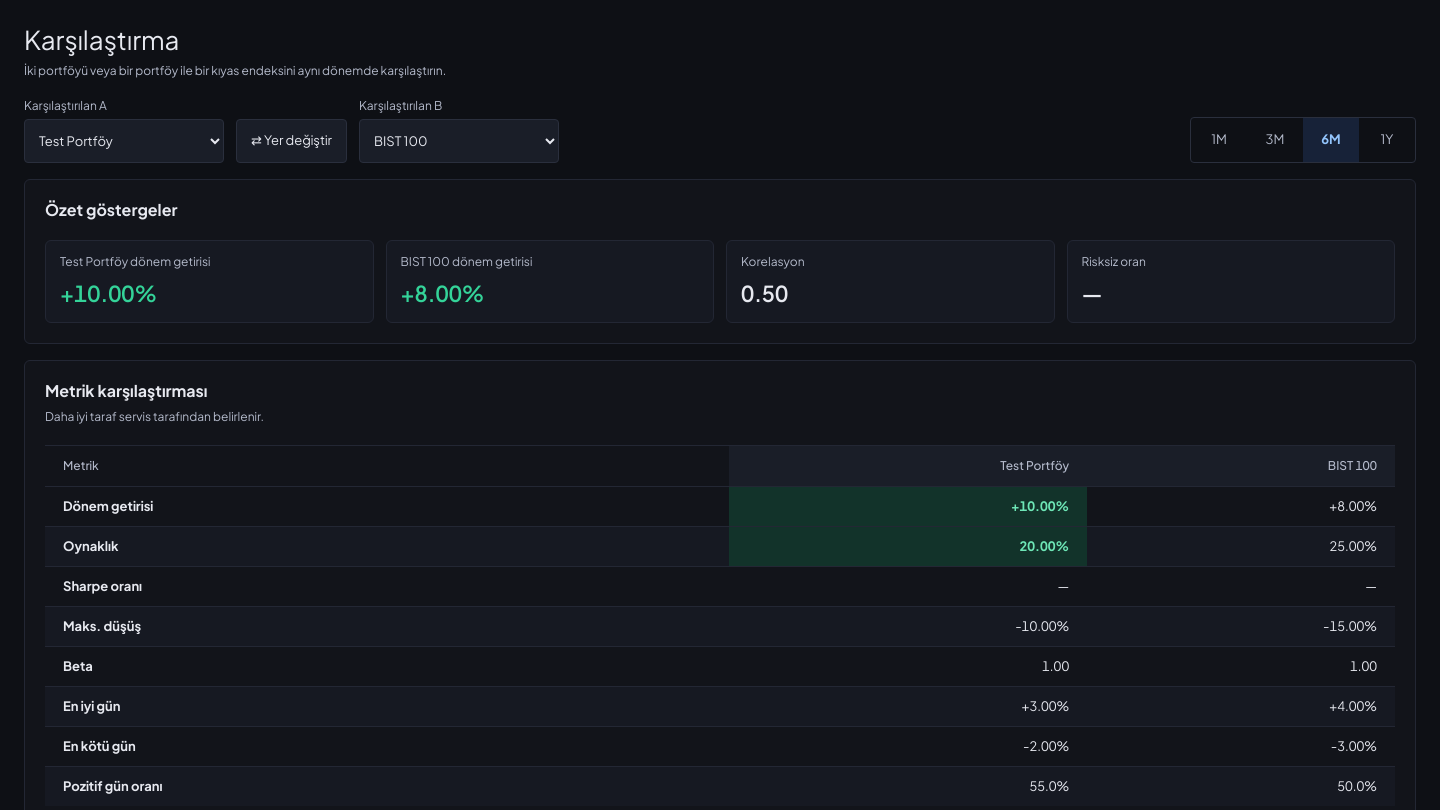
Test: CompareView › swaps the A and B selections
Expected: the dropdown labelled "Karşılaştırılan A" shows "Test Portföy", 24,119 -> 224,163
Click the button with aria-label "A ve B seçimlerini yer değiştir" at [292, 141], box 236,119 -> 347,163
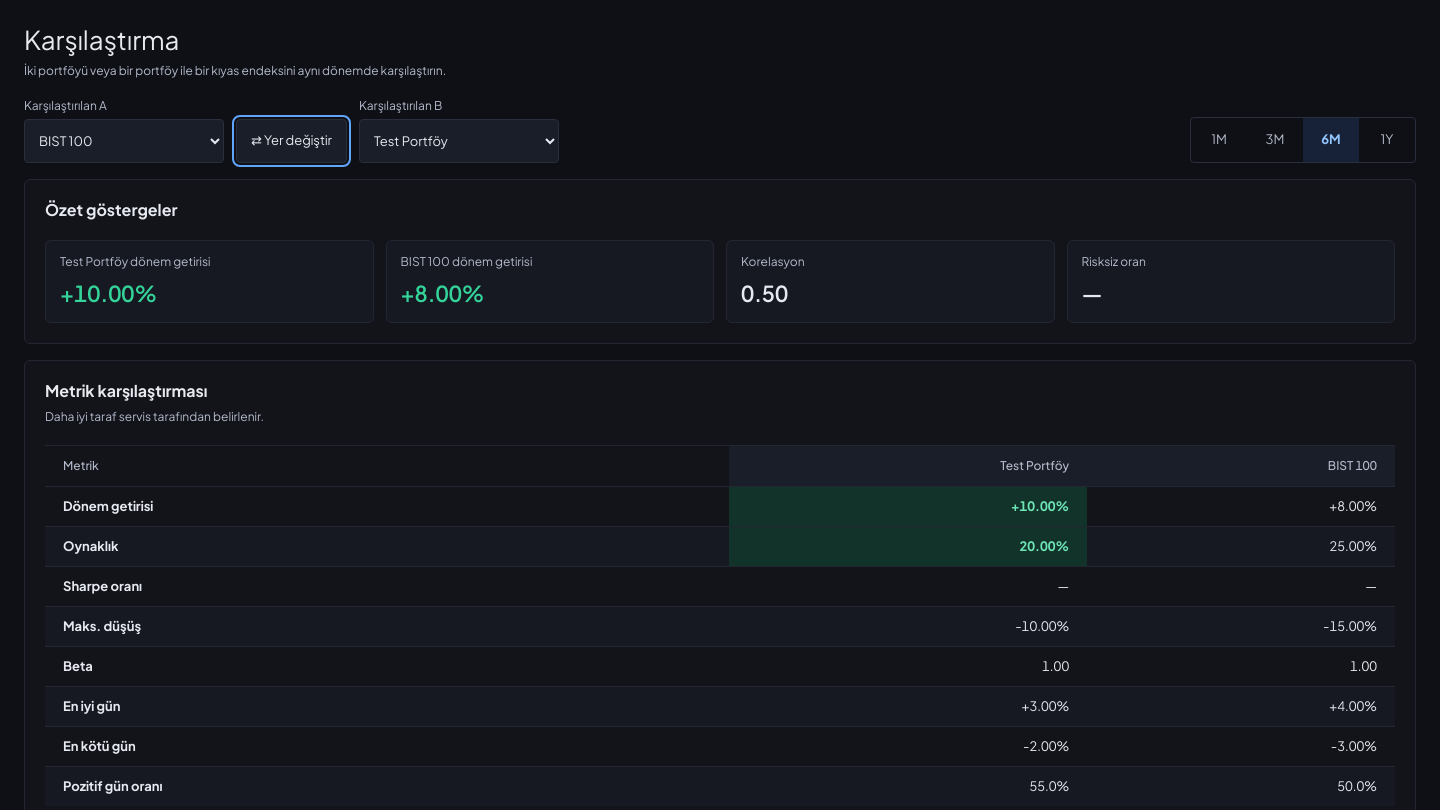
Result: the dropdown labelled "Karşılaştırılan A" shows "BIST 100" at 24,119 -> 224,163
